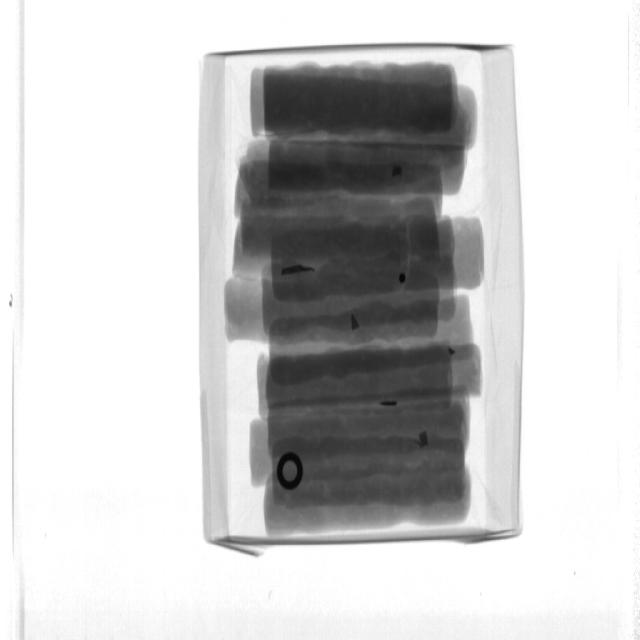ym: (278, 452, 304, 492), (281, 266, 317, 277), (351, 313, 361, 333), (381, 399, 399, 409), (420, 431, 430, 449), (392, 167, 404, 179), (399, 274, 407, 283), (450, 349, 458, 357)
